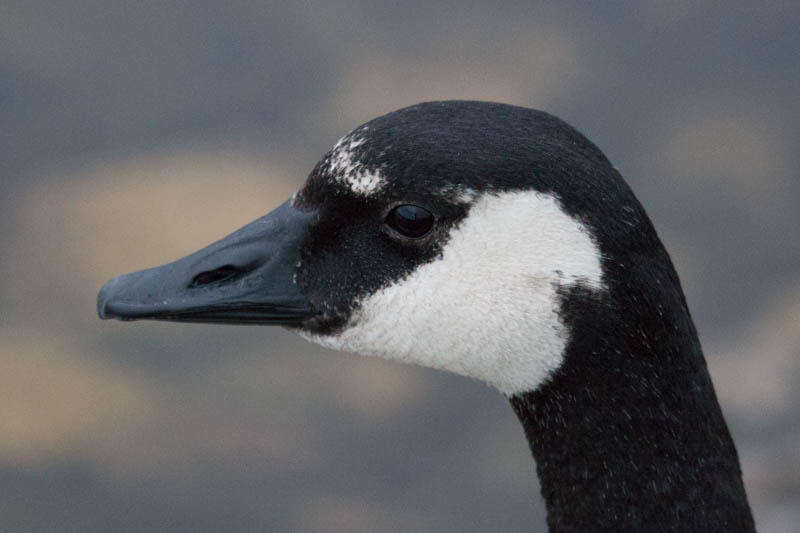goose-head: (95, 100, 685, 406)
